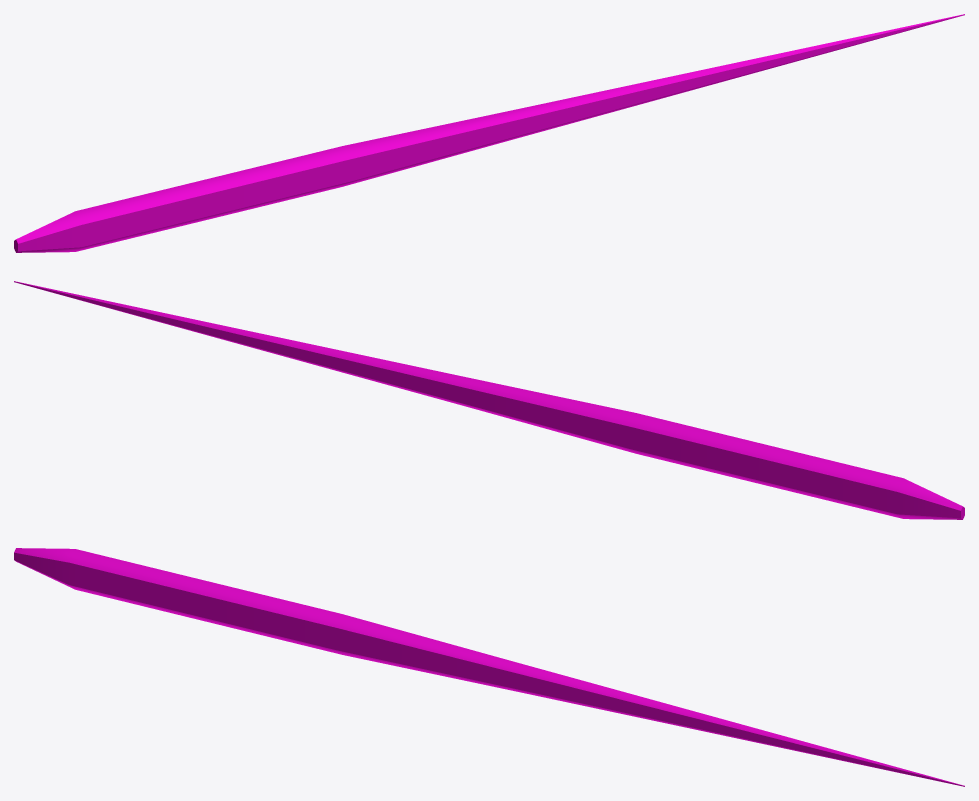
File: LaserProjectile.fbx
The picture shows the model from 3 angles, top to bottom: view 1: azimuth 30°, elevation 25°; view 2: azimuth 150°, elevation 25°; view 3: azimuth 330°, elevation 25°; orthographic projection.
Parts seen in each view (by area): view 1: pCube3; view 2: pCube3; view 3: pCube3.
Part boxes in pixels (box(x1,y1,x2,y2)): pCube3: box(14, 14, 964, 252); pCube3: box(14, 281, 964, 519); pCube3: box(14, 548, 964, 786).
Bounding box in the file's own units: 114 × 4.68 × 2.57.
